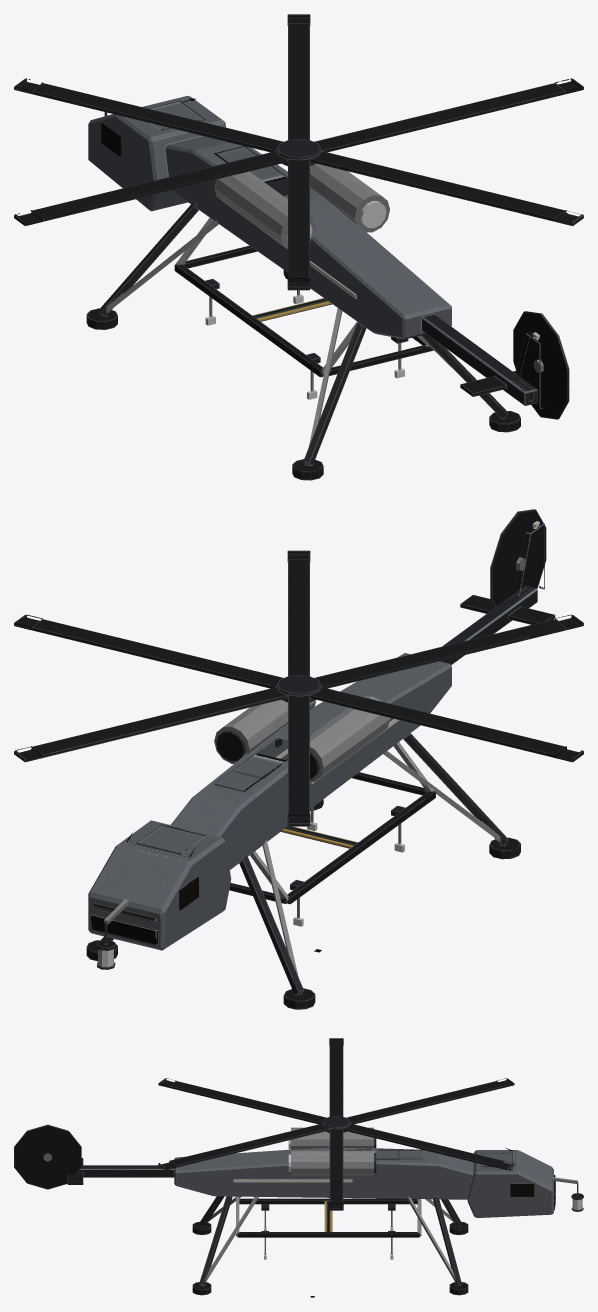
File: chs_charon.fbx
3 views of the same model, one above another, from view 1: azimuth 30°, elevation 25°; view 2: azimuth 150°, elevation 25°; view 3: azimuth 270°, elevation 25° (orthographic). The views are drawn at different scales.
Parts seen in each view (by area): view 1: base_bar, rotor_bar, tailRotor_bar, base_glow_running_bar; view 2: base_bar, rotor_bar, tailRotor_bar; view 3: base_bar, rotor_bar, tailRotor_bar, base_glow_running_bar.
Boxes of the visible parts, x1,y1,x2,y2 form: base_bar: [86, 96, 544, 480]; rotor_bar: [14, 14, 583, 290]; tailRotor_bar: [513, 311, 569, 419]; base_glow_running_bar: [261, 201, 539, 338]; base_bar: [86, 522, 555, 1009]; rotor_bar: [14, 550, 583, 826]; tailRotor_bar: [490, 509, 546, 606]; base_bar: [67, 1127, 583, 1295]; rotor_bar: [158, 1038, 514, 1210]; tailRotor_bar: [14, 1124, 81, 1189]; base_glow_running_bar: [233, 1140, 352, 1182].
Bounding box in the file's own units: 2040 × 980 × 2883.
2 materials, 2 textured.
